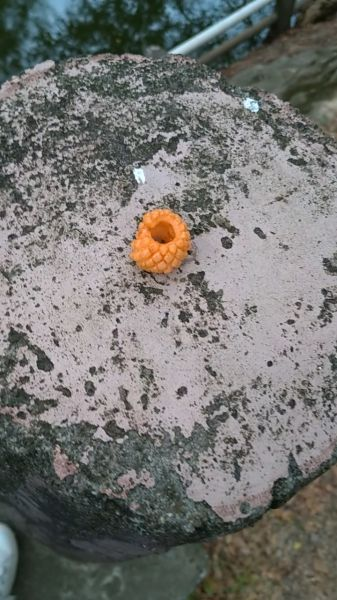eggs: (117, 203, 197, 277)
